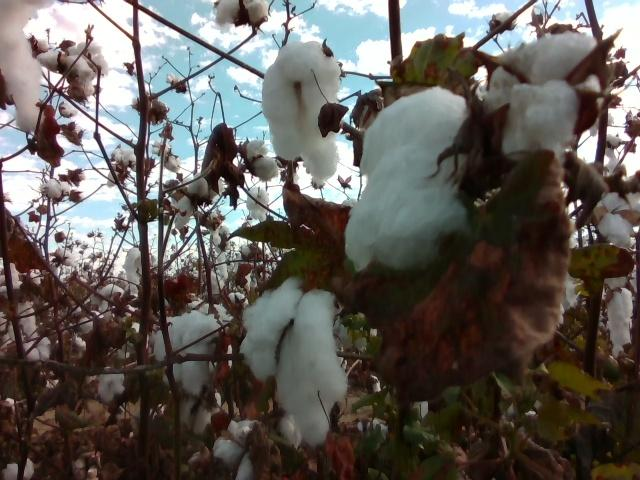cotton_ready: (343, 84, 484, 273), (242, 275, 347, 448), (485, 31, 603, 158), (262, 42, 342, 181), (0, 0, 53, 128), (153, 311, 224, 397), (214, 417, 266, 480), (39, 40, 108, 80), (602, 275, 635, 358), (174, 176, 225, 229), (598, 189, 640, 249), (168, 392, 222, 436), (125, 246, 156, 295), (243, 137, 276, 181), (213, 2, 269, 27), (246, 186, 269, 221), (23, 337, 52, 361)
